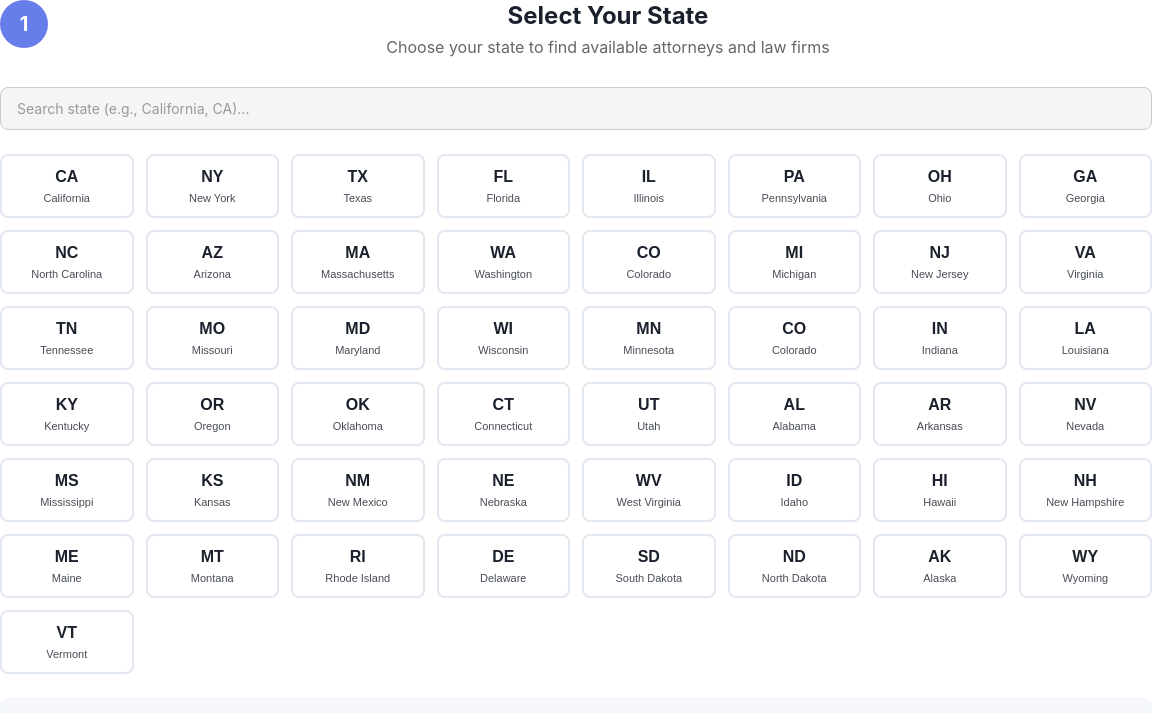
it: FindAttorneyStep1 › Search Functionality › filters states by state name
The width and height of the screenshot is (1152, 713).
Type "California" into the field with test id "state-search-input".
click(576, 108); type("California")  # box left=0, top=87, right=1151, bottom=130
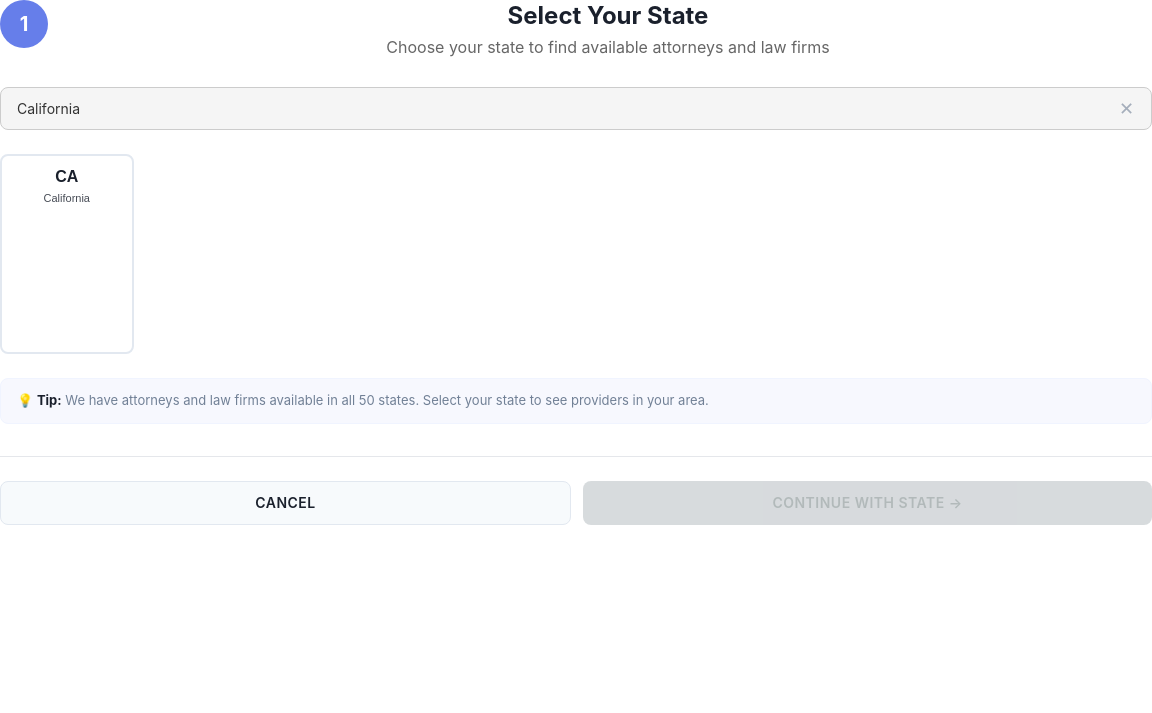
expect the button with test id "state-button-CA" is shown: met, box left=0, top=154, right=134, bottom=354
expect the button with test id "state-button-NY" is gone: met
